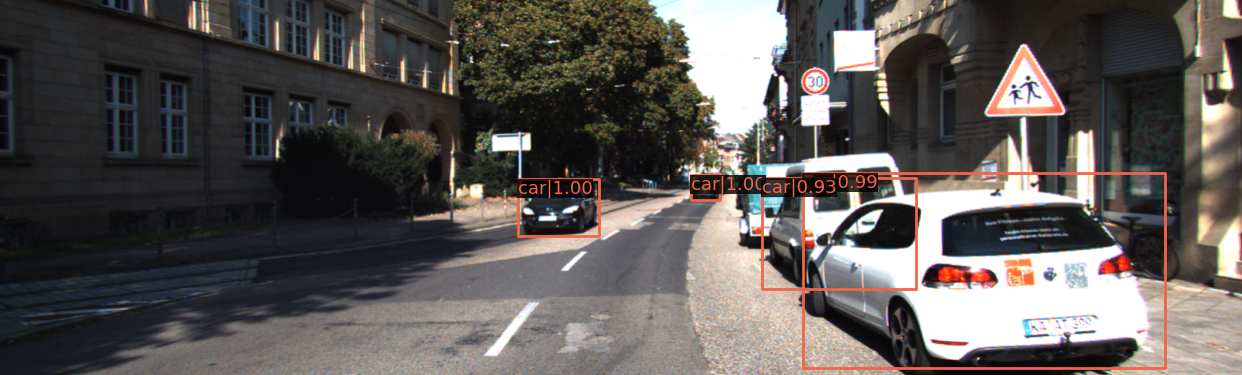car: (800, 182, 1175, 375), (764, 148, 915, 298), (520, 183, 598, 238), (692, 178, 719, 202)
